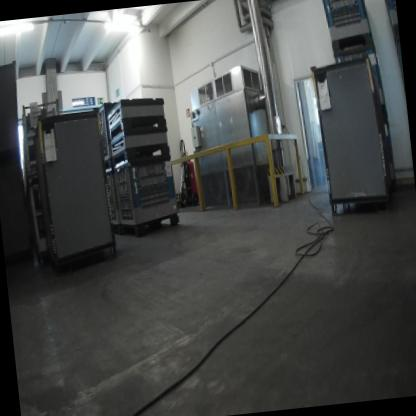stillage: (23, 172, 58, 259), (20, 96, 57, 171)
